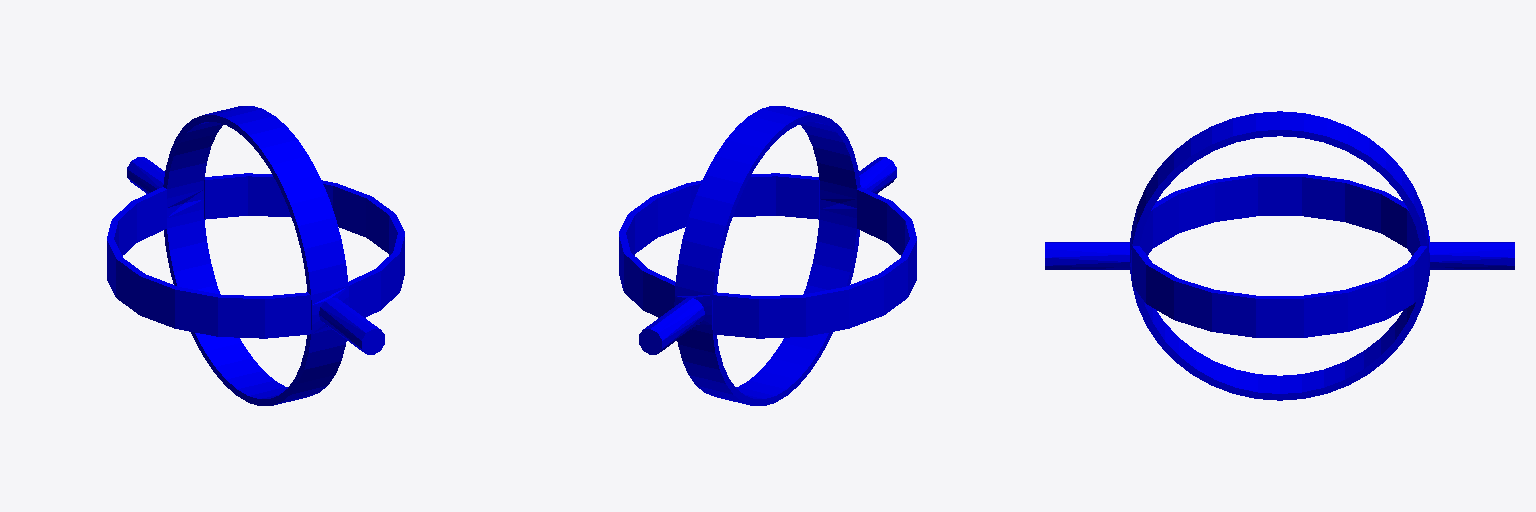
The picture shows the model from 3 angles: view 1: azimuth 30°, elevation 25°; view 2: azimuth 150°, elevation 25°; view 3: azimuth 270°, elevation 25°; orthographic projection.
Visible parts, largest first — view 1: gi; view 2: gi; view 3: gi.
Boxes of the visible parts, x1,y1,x2,y2 form: gi: [107, 106, 404, 405]; gi: [619, 106, 916, 405]; gi: [1045, 111, 1514, 400].
Size of the model in its own units: 40.84 by 41.36 by 65.